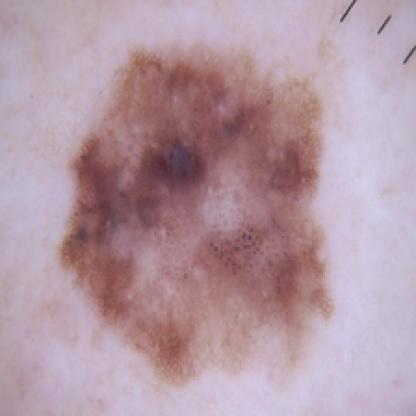Skin_Cancer-Malignant: (61, 41, 335, 390)
